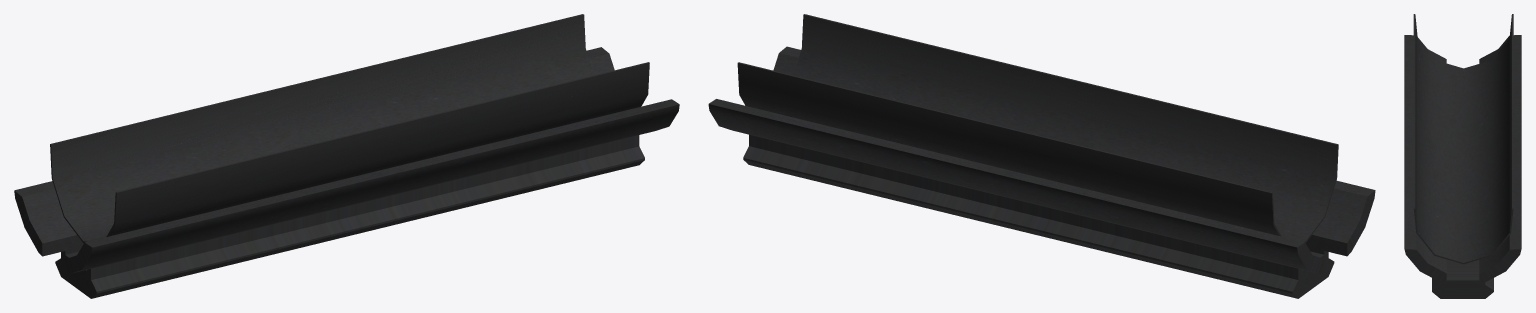
Rendered from Lower_Handguard.dae.
3 views of the same model, side by side, from view 1: azimuth 30°, elevation 25°; view 2: azimuth 150°, elevation 25°; view 3: azimuth 270°, elevation 25° (orthographic). The views are drawn at different scales.
Parts seen in each view (by area): view 1: Lower_Handguard; view 2: Lower_Handguard; view 3: Lower_Handguard.
Part boxes in pixels (left/top/right/bottom): Lower_Handguard: left=14, top=14, right=679, bottom=298; Lower_Handguard: left=708, top=14, right=1375, bottom=298; Lower_Handguard: left=1404, top=14, right=1521, bottom=298.
Size of the model in its own units: 0.163 by 0.0376 by 0.0311.
1 material, 1 textured.
